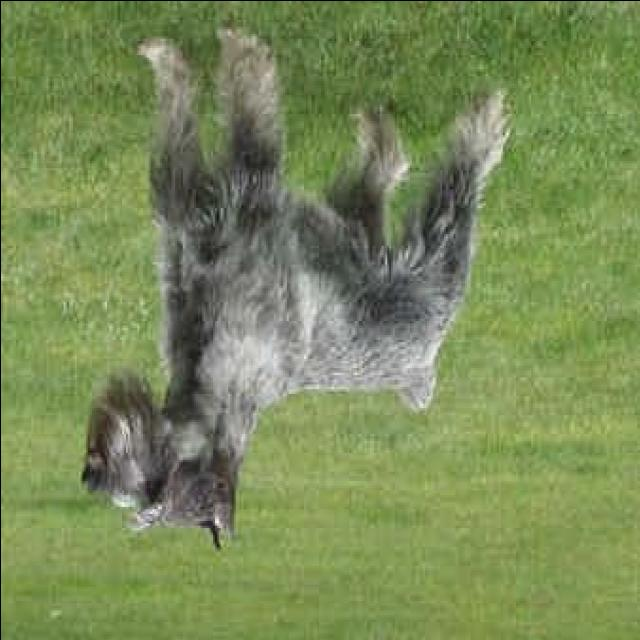standard_schnauzer: (70, 28, 519, 560)
